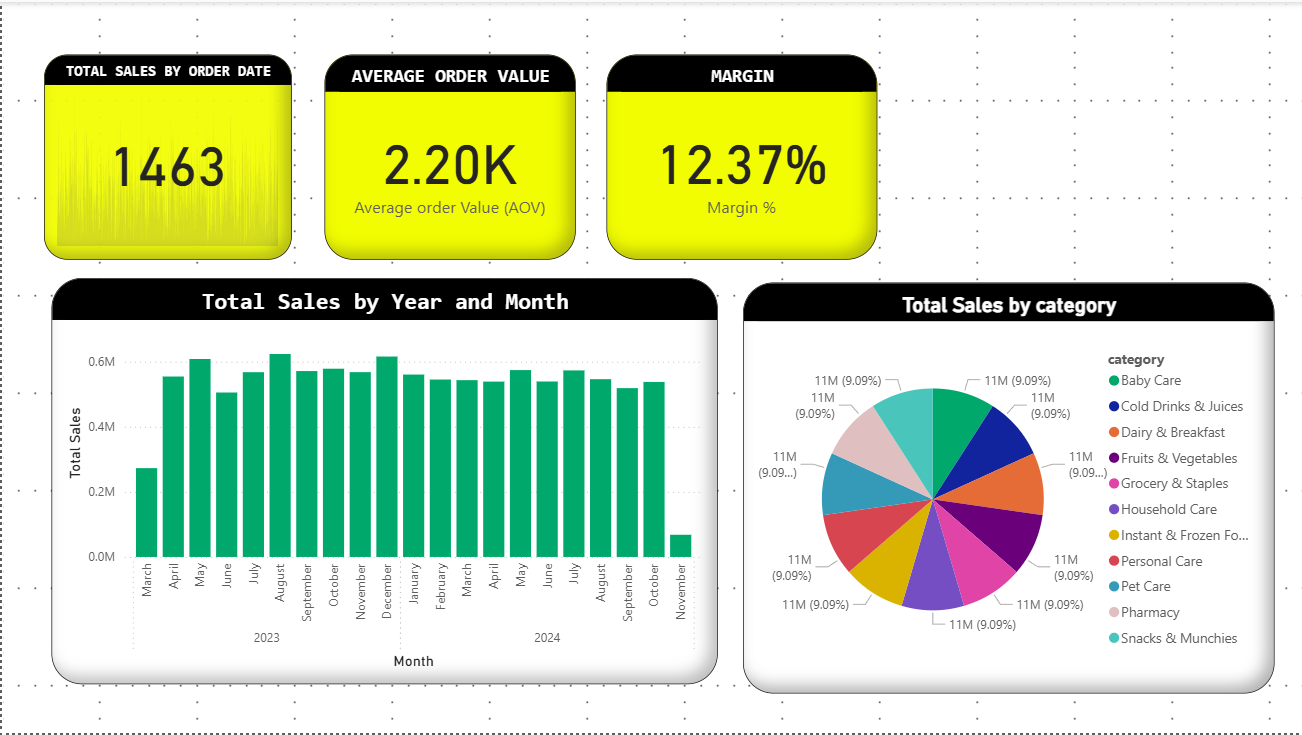

This screenshot's page, from the dashboard's own definition file:
{"tool":"powerbi","page":{"name":"EXECUTIVE OVERVIEW ","canvas":[1280,720],"ordinal":1},"visuals":[{"type":"kpi","title":"TOTAL SALES BY ORDER DATE","fields":{"Indicator":["blinkit_orders.Total Sales"],"TrendLine":["blinkit_orders.order_date"]},"box":[41.6,51,243.8,202.2],"z":0},{"type":"card","title":"AVERAGE ORDER VALUE ","fields":{"Values":["blinkit_orders.Average order Value (AOV)"]},"box":[317.5,51,247.6,202.2],"z":1000},{"type":"card","title":"MARGIN","fields":{"Values":["blinkit_orders.Margin %"]},"box":[595.3,51,266.5,202.2],"z":2000},{"type":"clusteredColumnChart","fields":{"Y":["blinkit_orders.Total Sales"],"Category":["blinkit_orders.order_date.Variation.Date Hierarchy.Year","blinkit_orders.order_date.Variation.Date Hierarchy.Month"]},"box":[48,272,656,400],"z":4000},{"type":"pieChart","fields":{"Category":["blinkit_products.category"],"Y":["blinkit_orders.Total Sales"]},"box":[729.5,275.9,523.5,404.4],"z":5000}]}

Visuals, with their boxes in screenshot pixels (x1, y1, x2, y2), scaled from the page's 1280x720 canvas onto the 1302x735 screenshot:
"TOTAL SALES BY ORDER DATE" kpi: 42, 52, 290, 258
"AVERAGE ORDER VALUE " card: 323, 52, 575, 258
"MARGIN" card: 606, 52, 877, 258
clusteredColumnChart - blinkit_orders.Total Sales x blinkit_orders.order_date.Variation.Date Hierarchy.Year: 49, 278, 716, 686
pieChart - blinkit_products.category x blinkit_orders.Total Sales: 742, 282, 1275, 694
